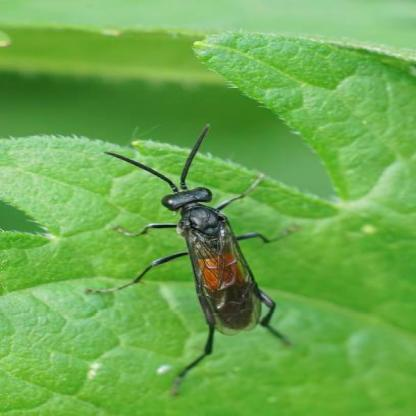sawfly: (97, 130, 304, 378)
